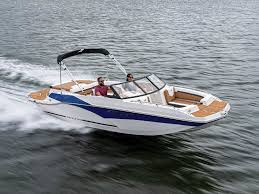boat: (1, 47, 232, 136)
